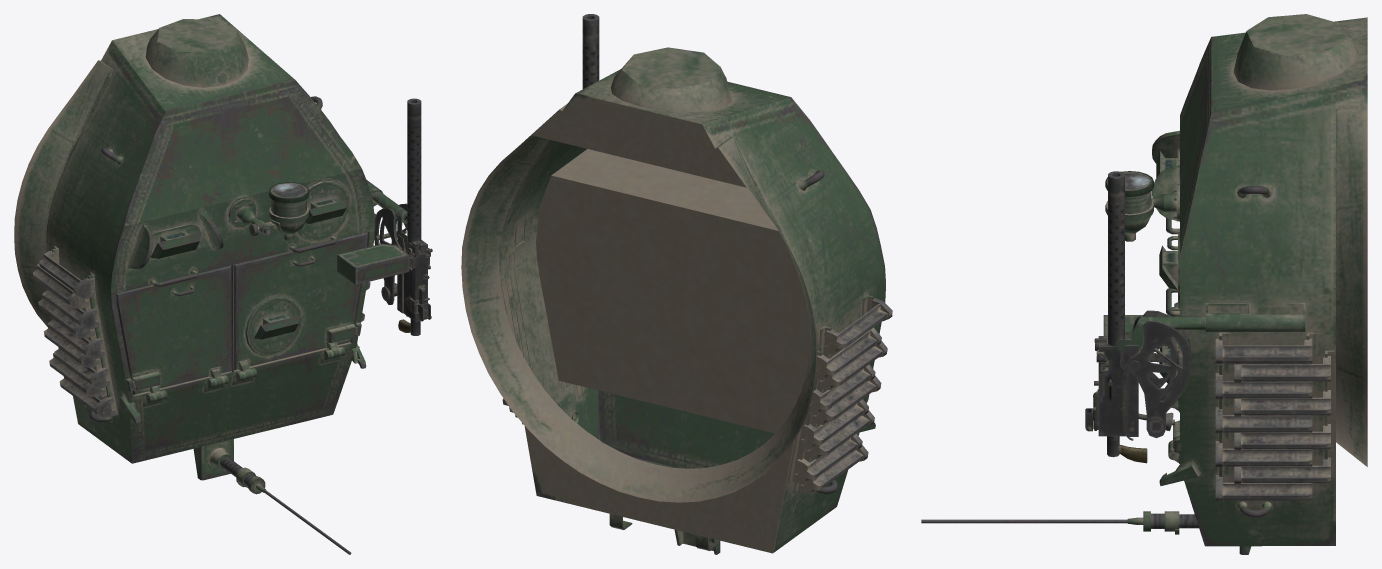
File: Turret_01.glb
The picture shows the model from 3 angles, left to right: view 1: azimuth 30°, elevation 25°; view 2: azimuth 150°, elevation 25°; view 3: azimuth 270°, elevation 25°; orthographic projection. The views are drawn at different scales.
Parts seen in each view (by area): view 1: set_0_group_0; view 2: set_0_group_0; view 3: set_0_group_0.
Part boxes in pixels (x1,y1,x2,y2): set_0_group_0: (14, 14, 432, 554); set_0_group_0: (461, 14, 892, 554); set_0_group_0: (921, 14, 1367, 554).
Size of the model in its own units: 1.44 by 1.85 by 1.47.
1 material, 1 textured.
